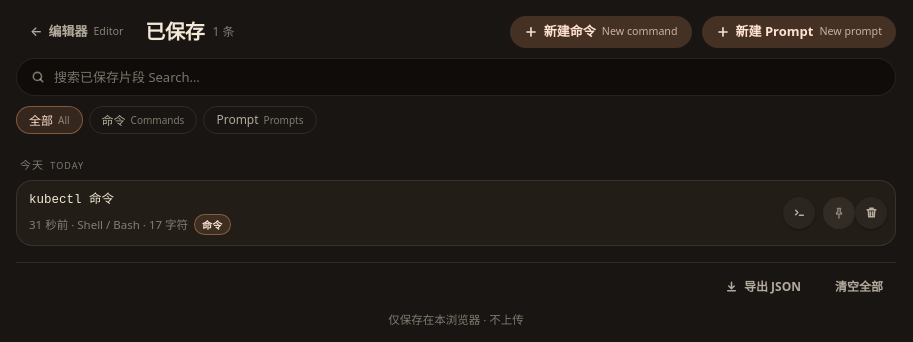
SavedPage（已保存片段库） › 搜索按标题与内容过滤；无匹配时给出提示
Step 1. Type "nodes" into the field labelled "搜索已保存片段" → (468, 77), box [54, 59, 881, 95]
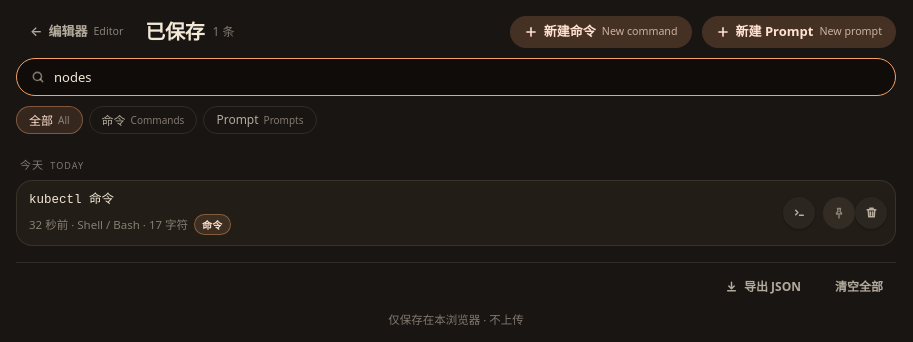
Expected: the button "kubectl 命令 32 秒前 · Shell / Bash · 17 字符 命令" is shown, [17, 181, 783, 245]
Step 2. Replace the text in the field named "搜索已保存片段" with "docker-compose" → (468, 77), box [54, 59, 881, 95]
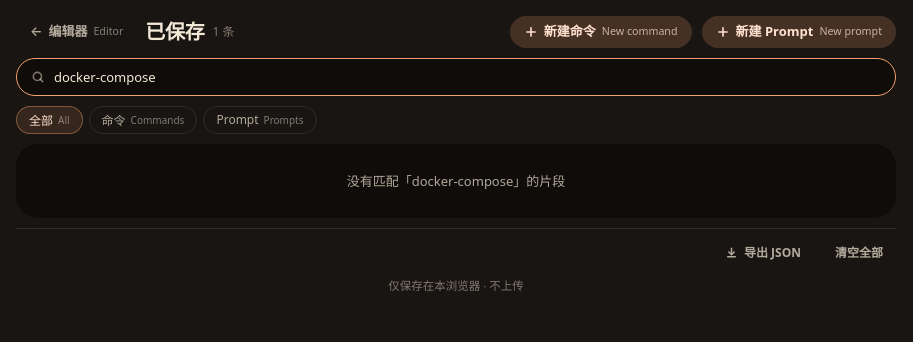
Now the text "没有匹配「docker-compose」的片段" is shown, box [16, 144, 896, 218]
